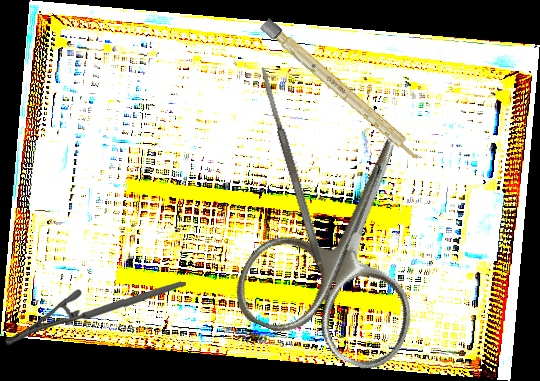Iris Scissors: (225, 95, 479, 380)
Needle Holder: (4, 278, 186, 349)
Scalpel Handle: (259, 17, 426, 165)
Spatula Surgical: (257, 65, 326, 266)
